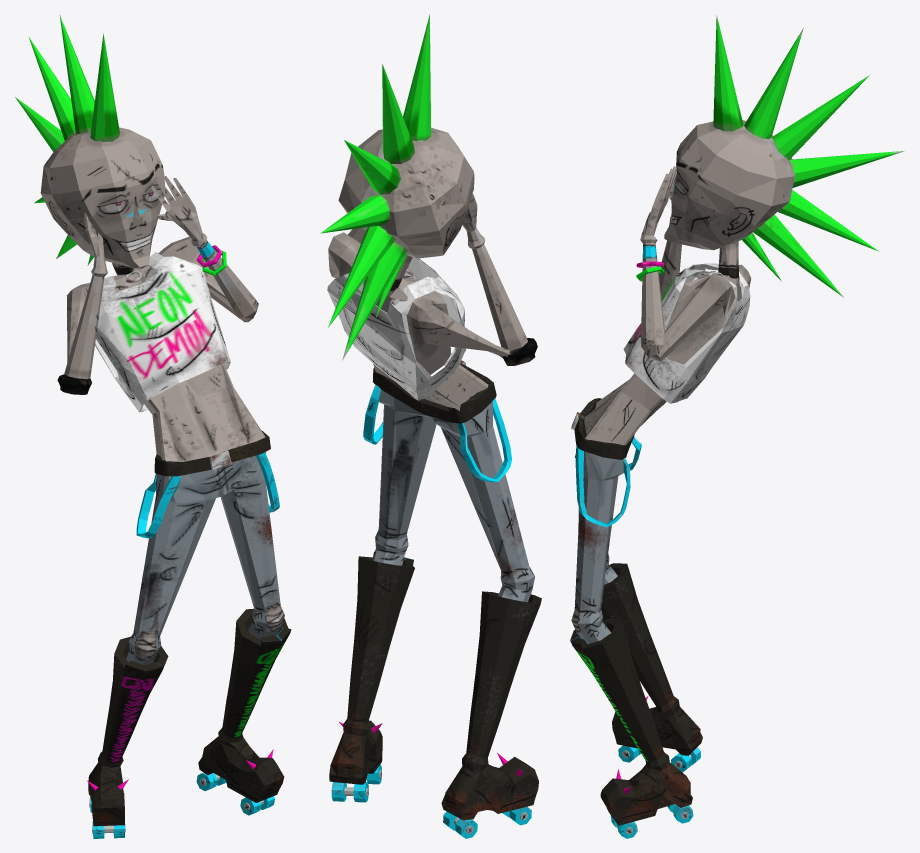
Rendered from punkAnimation_000015.obj.
3 views of the same model, side by side, from view 1: azimuth 30°, elevation 25°; view 2: azimuth 150°, elevation 25°; view 3: azimuth 270°, elevation 25° (orthographic). The views are drawn at different scales.
Parts seen in each view (by area): view 1: Cube.004_Cube.003; view 2: Cube.004_Cube.003; view 3: Cube.004_Cube.003.
Boxes of the visible parts, <box> form: Cube.004_Cube.003: <box>15,15,291,838</box>; Cube.004_Cube.003: <box>320,14,541,838</box>; Cube.004_Cube.003: <box>570,15,905,838</box>.
Bounding box in the file's own units: 1.93 × 7.17 × 2.85.
